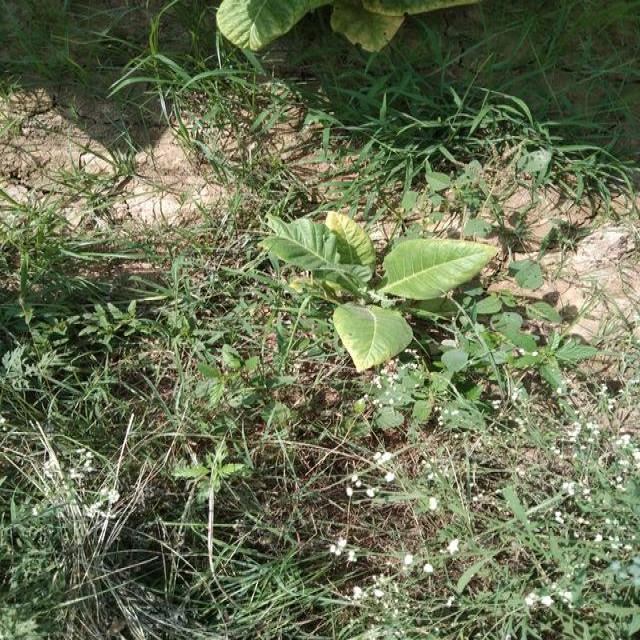crop: (264, 207, 496, 361), (212, 0, 467, 52)
